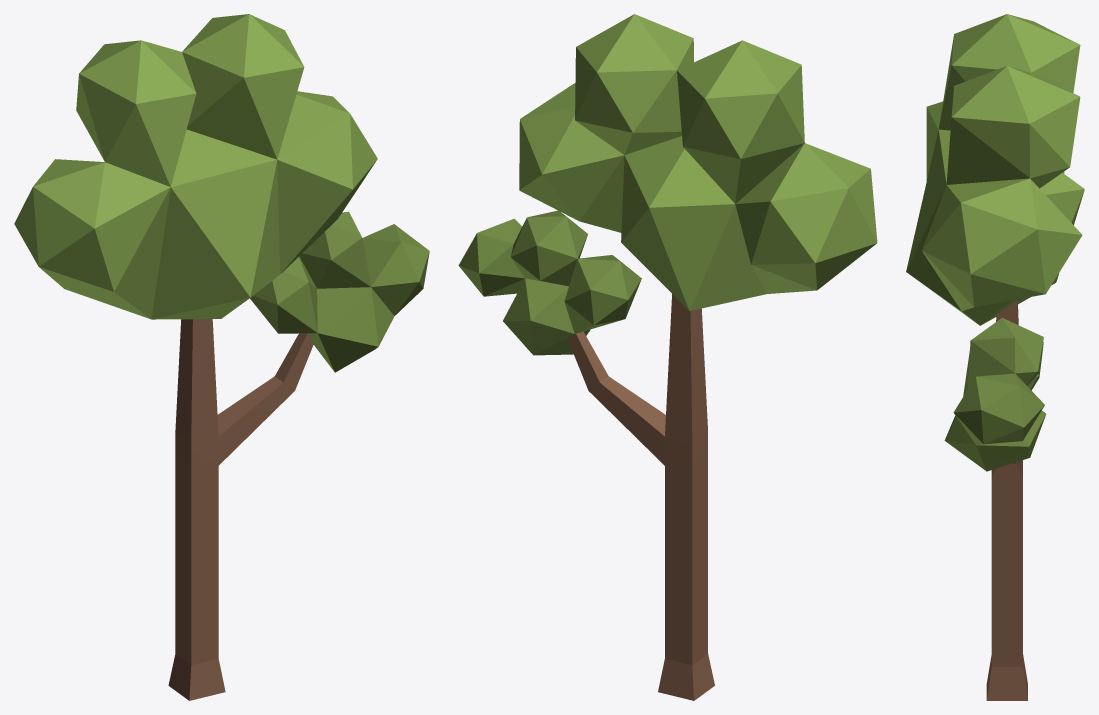
The model's file is deciduous_tree_9.fbx.
3 views of the same model, side by side, from view 1: azimuth 30°, elevation 25°; view 2: azimuth 150°, elevation 25°; view 3: azimuth 270°, elevation 25° (orthographic).
Visible parts, largest first — view 1: deciduous_tree_9; view 2: deciduous_tree_9; view 3: deciduous_tree_9.
Boxes of the visible parts, x1,y1,x2,y2 form: deciduous_tree_9: [14, 14, 429, 700]; deciduous_tree_9: [458, 14, 877, 700]; deciduous_tree_9: [906, 14, 1084, 700].
Bounding box in the file's own units: 350 × 562 × 140.
